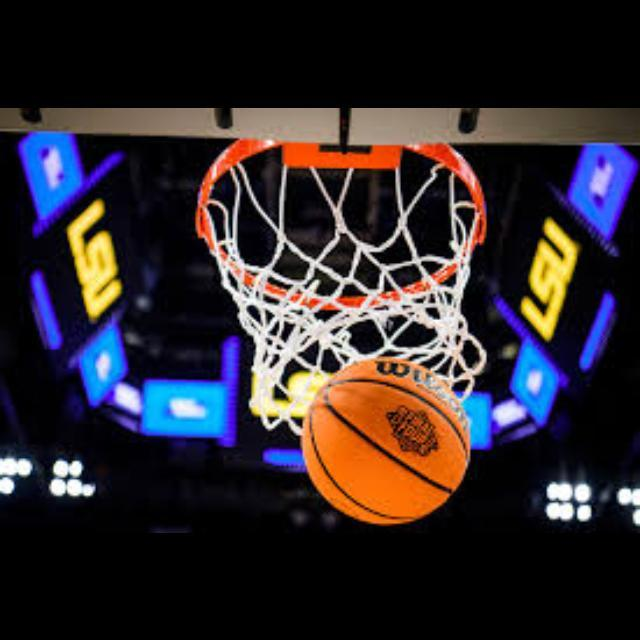basketball: (302, 358, 470, 524)
